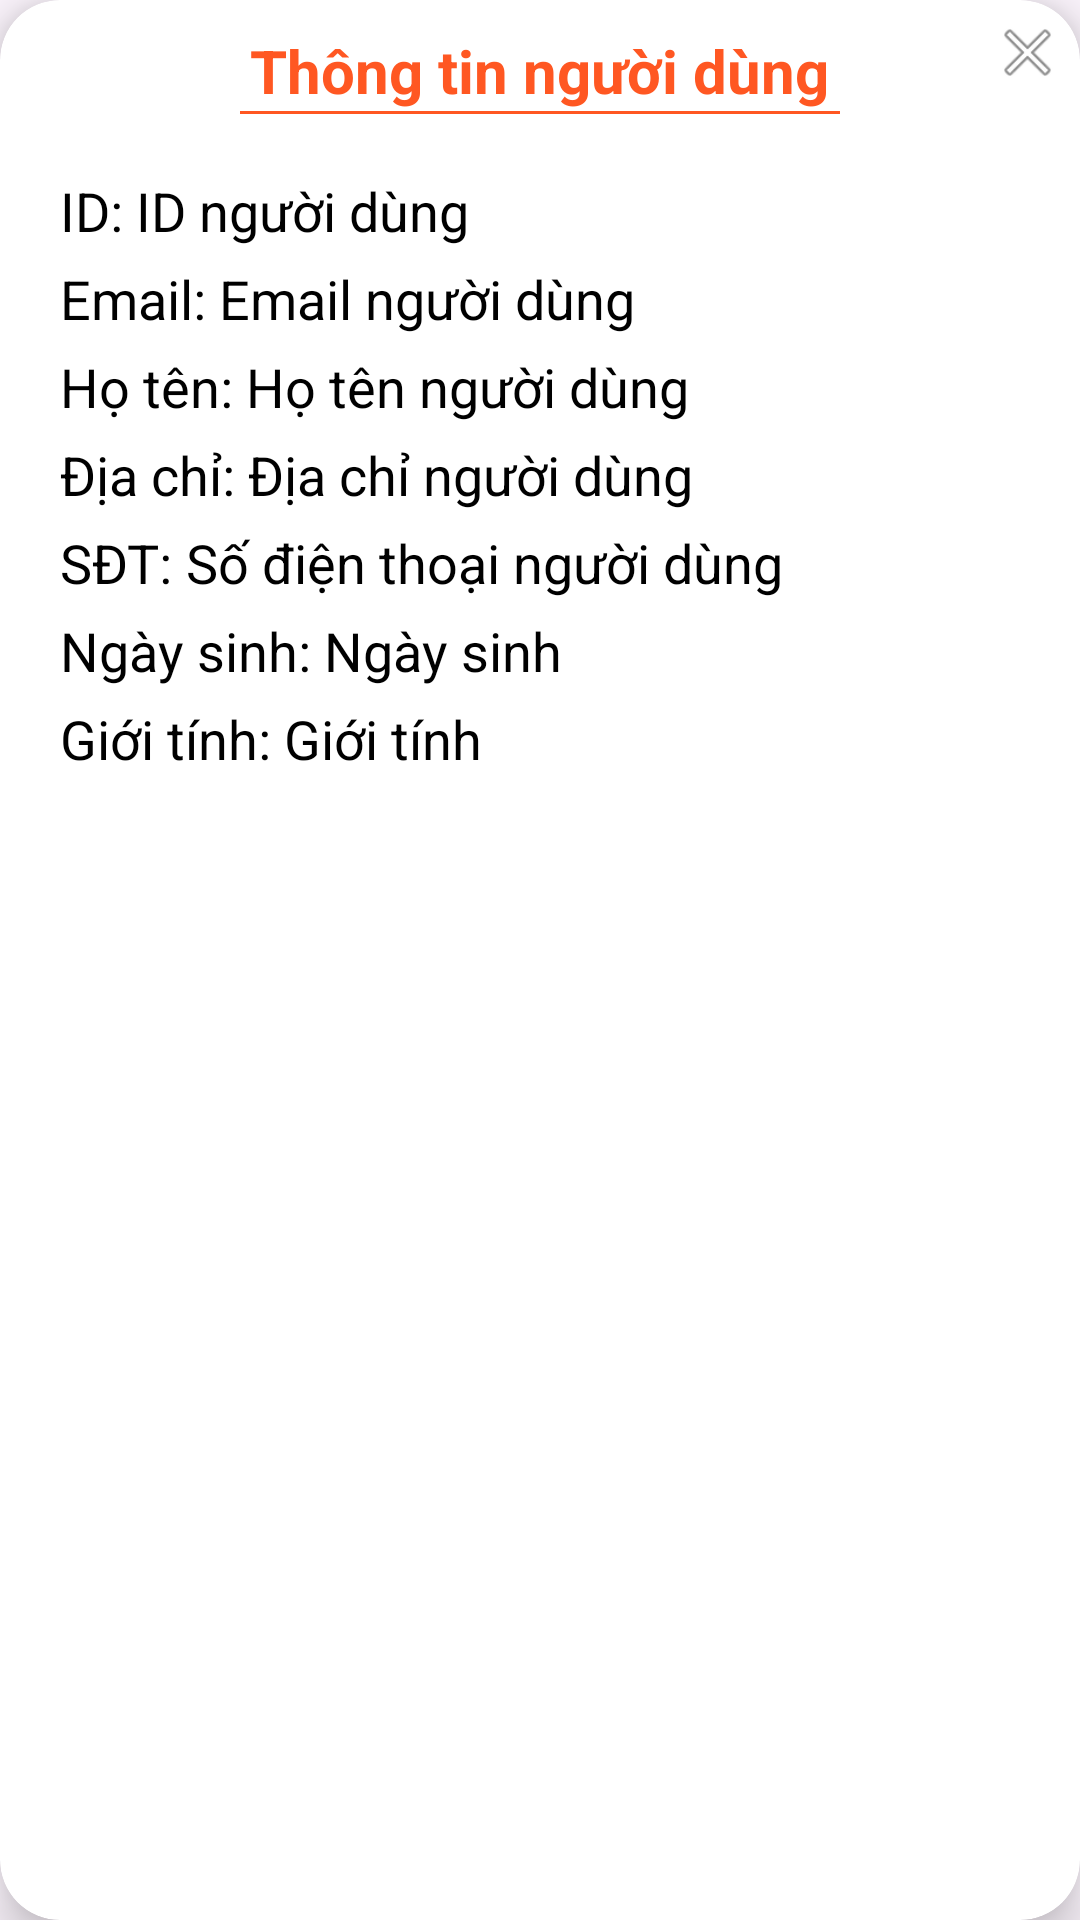

Icons on this 1080px x 1920px Android screen, each with its box as detection(x1, y1, x2, y2):
close clear cancel: detection(1004, 29, 1051, 76)
